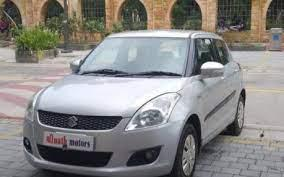Hatchback: (20, 29, 249, 175)
